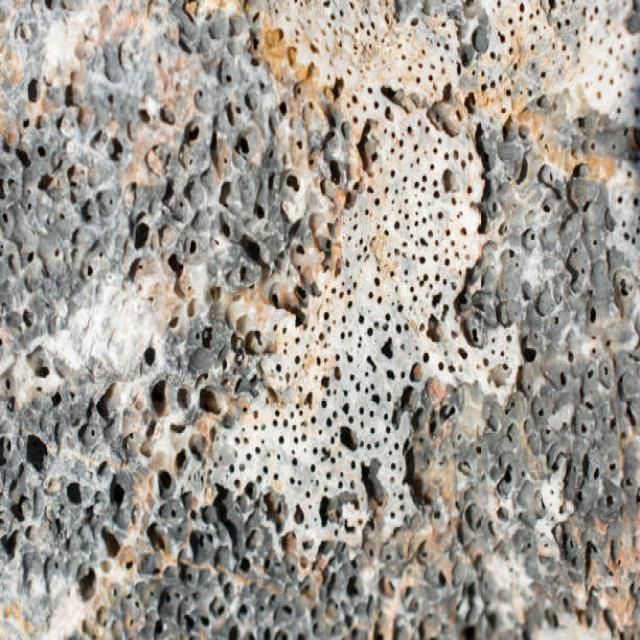Sedimentary: (1, 1, 636, 634)
